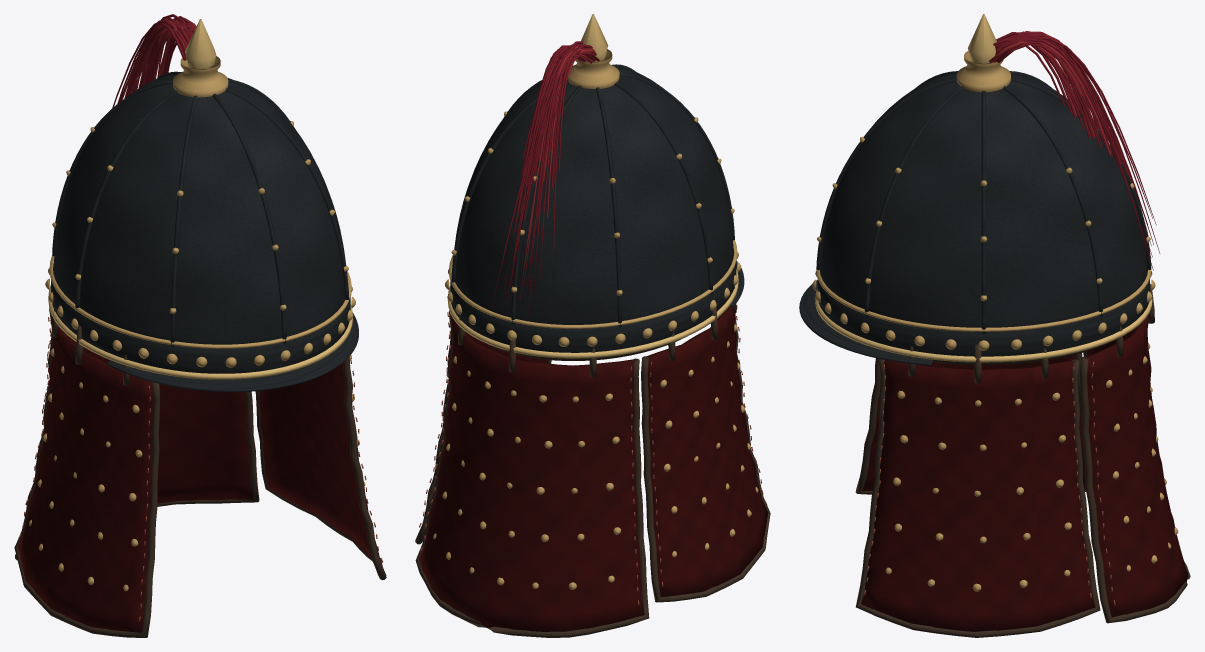
The model's file is helmet_joseon_dujeong.glb.
3 renders of one model, left to right at view 1: azimuth 30°, elevation 25°; view 2: azimuth 150°, elevation 25°; view 3: azimuth 270°, elevation 25°, orthographic. The views are drawn at different scales.
Visible parts, largest first — view 1: Helmet shell, three separate cloth panels, rivets and horseh; view 2: Helmet shell, three separate cloth panels, rivets and horseh; view 3: Helmet shell, three separate cloth panels, rivets and horseh.
Boxes of the visible parts, x1=… form: Helmet shell, three separate cloth panels, rivets and horseh: x1=14, y1=14, x2=386, y2=637; Helmet shell, three separate cloth panels, rivets and horseh: x1=415, y1=14, x2=770, y2=637; Helmet shell, three separate cloth panels, rivets and horseh: x1=799, y1=14, x2=1190, y2=637.
Size of the model in its own units: 0.2837 by 0.503 by 0.3155.
8 materials, 2 textured.
